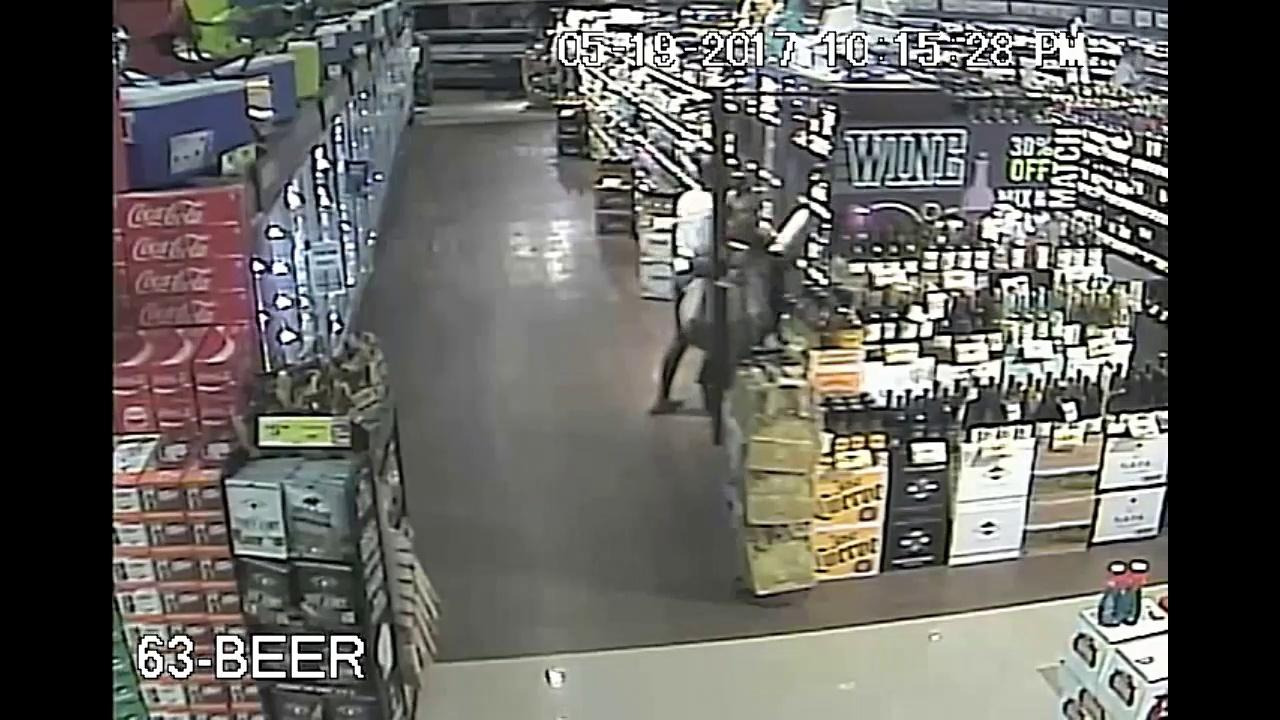1: (770, 206, 817, 263)
2: (671, 146, 830, 451)
3: (639, 135, 734, 344)
persone: (698, 265, 794, 339)
